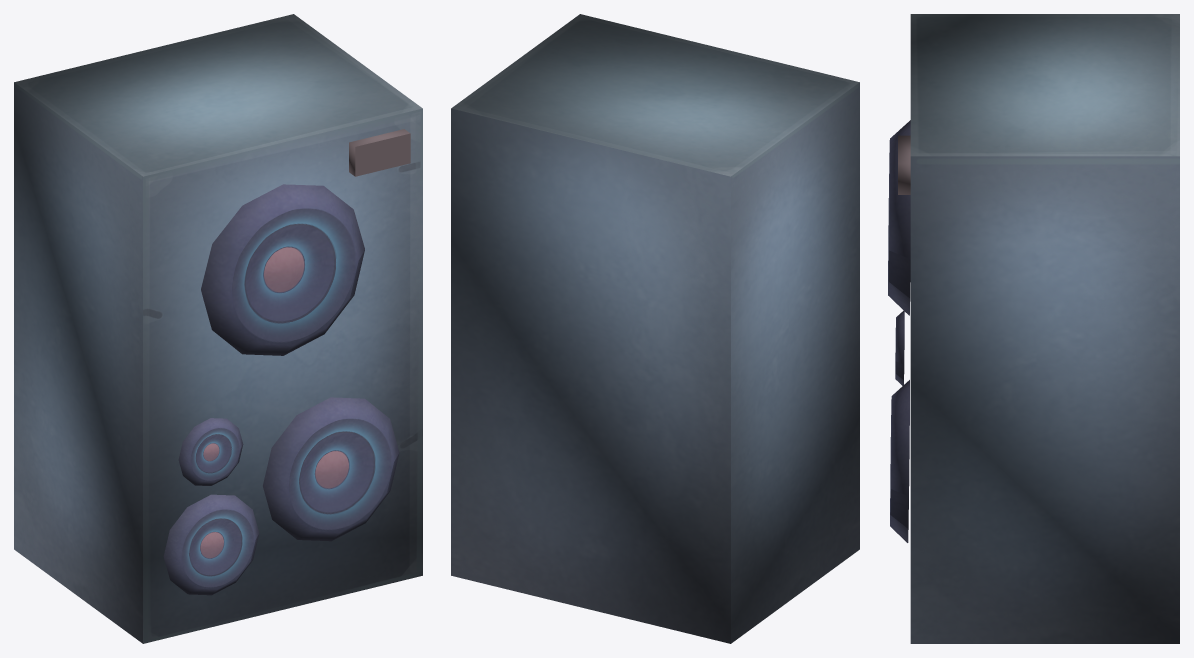
File: galactic_speaker_01.fbx
3 views of the same model, side by side, from view 1: azimuth 30°, elevation 25°; view 2: azimuth 150°, elevation 25°; view 3: azimuth 270°, elevation 25° (orthographic). The views are drawn at different scales.
Parts seen in each view (by area): view 1: speaker1; view 2: speaker1; view 3: speaker1.
Boxes of the visible parts, left/top/right/bottom form: speaker1: left=14, top=14, right=422, bottom=643; speaker1: left=451, top=14, right=859, bottom=643; speaker1: left=888, top=14, right=1179, bottom=643.
Bounding box in the file's own units: 0.01 × 0.016 × 0.00866.
